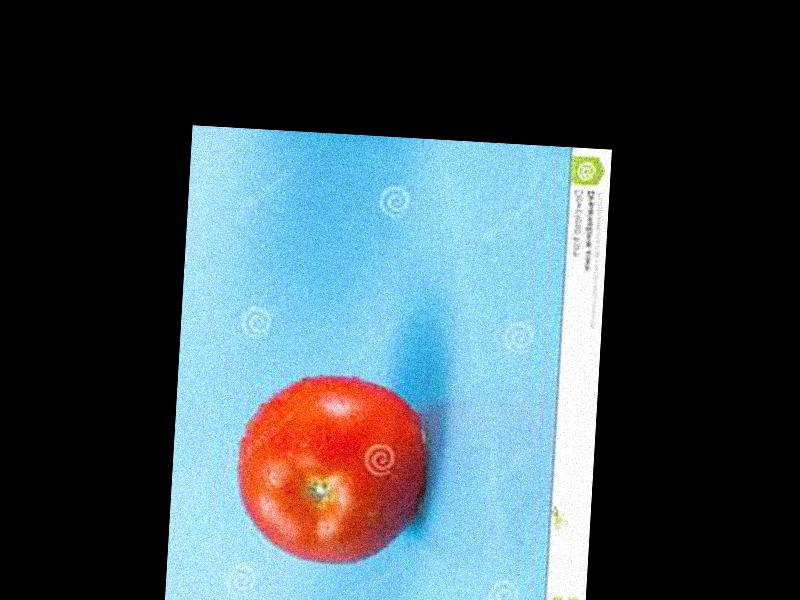Tomato: (233, 370, 428, 571)
